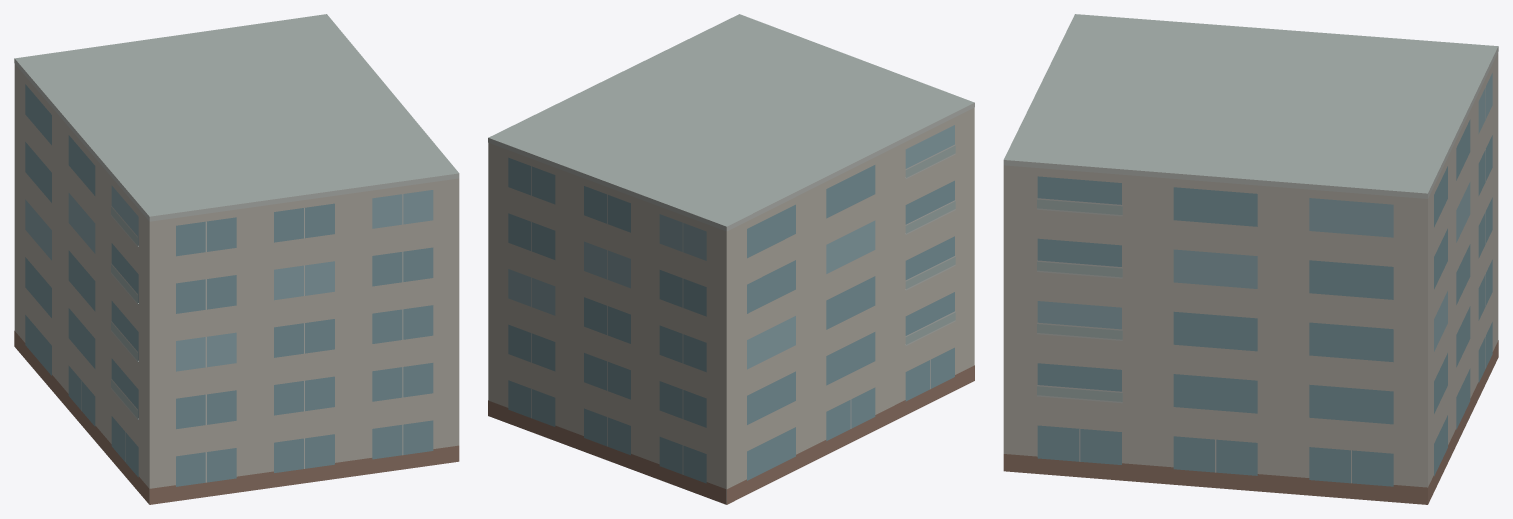
Rendered from survey-upis-32767757.glb.
3 views of the same model, side by side, from view 1: azimuth 30°, elevation 25°; view 2: azimuth 150°, elevation 25°; view 3: azimuth 270°, elevation 25° (orthographic). The views are drawn at different scales.
Visible parts, largest first — view 1: survey-upis-32767757.tmp; view 2: survey-upis-32767757.tmp; view 3: survey-upis-32767757.tmp.
Boxes of the visible parts, box(x1,y1,x2,y2) form: survey-upis-32767757.tmp: box(14, 14, 459, 504); survey-upis-32767757.tmp: box(488, 14, 974, 504); survey-upis-32767757.tmp: box(1003, 14, 1498, 504).
Size of the model in its own units: 17.33 by 14 by 20.18.
